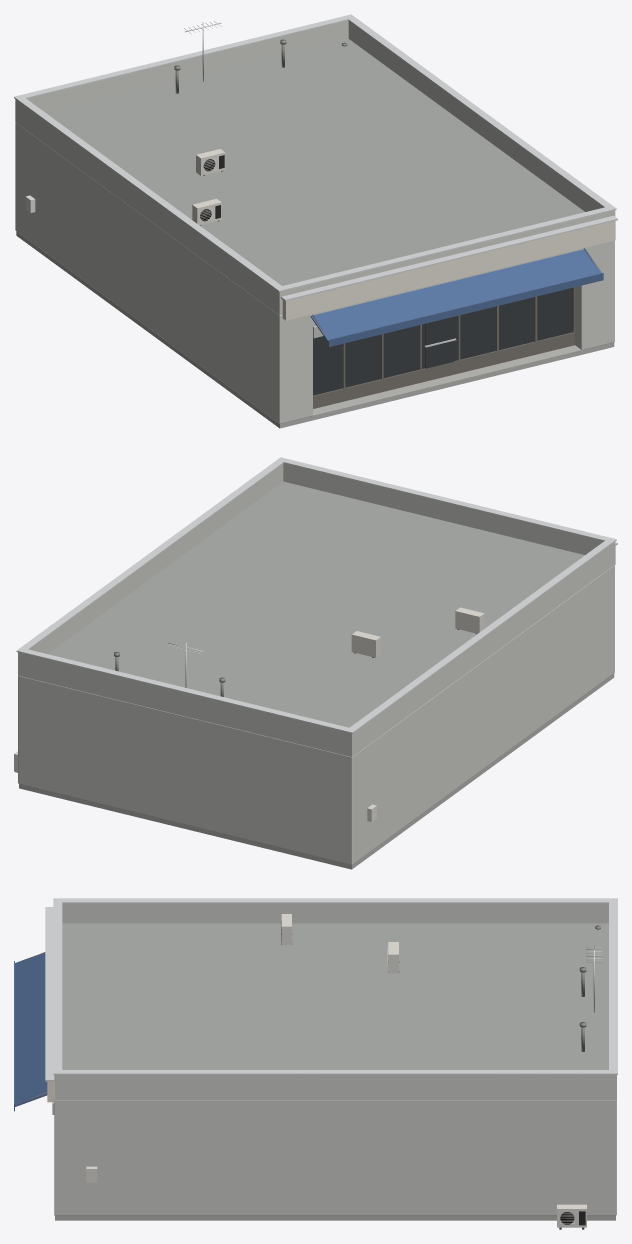
Rendered from blk_printshop.glb.
3 renders of one model, top to bottom at view 1: azimuth 30°, elevation 25°; view 2: azimuth 150°, elevation 25°; view 3: azimuth 270°, elevation 25°, orthographic. The views are drawn at different scales.
Visible parts, largest first — view 1: blk_printshop; view 2: blk_printshop; view 3: blk_printshop.
Part boxes in pixels (x1,y1,x2,y2): blk_printshop: [14, 14, 617, 428]; blk_printshop: [14, 457, 617, 869]; blk_printshop: [14, 898, 617, 1229].
Bounding box in the file's own units: 11.76 × 5.55 × 16.1.
